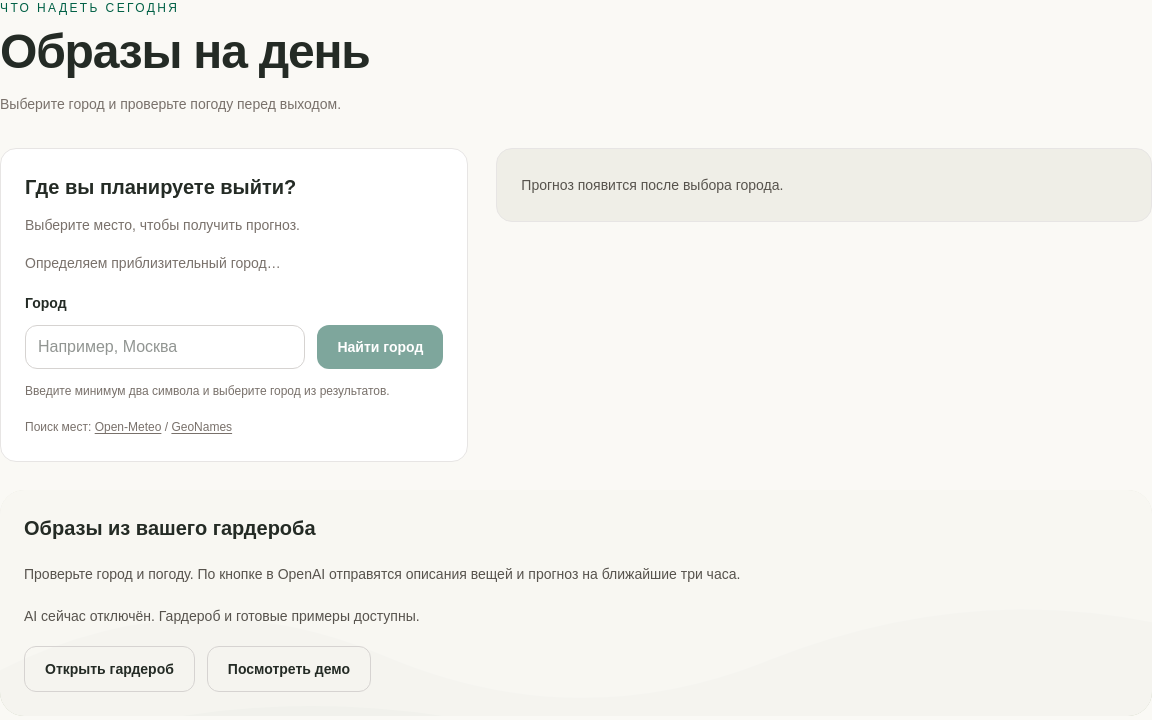
Test: personal place and weather › ignores late IP results after manual search has started
Type "Москва" into the field labelled "Город" at (165,347), box x1=25 y1=325 x2=306 y2=369
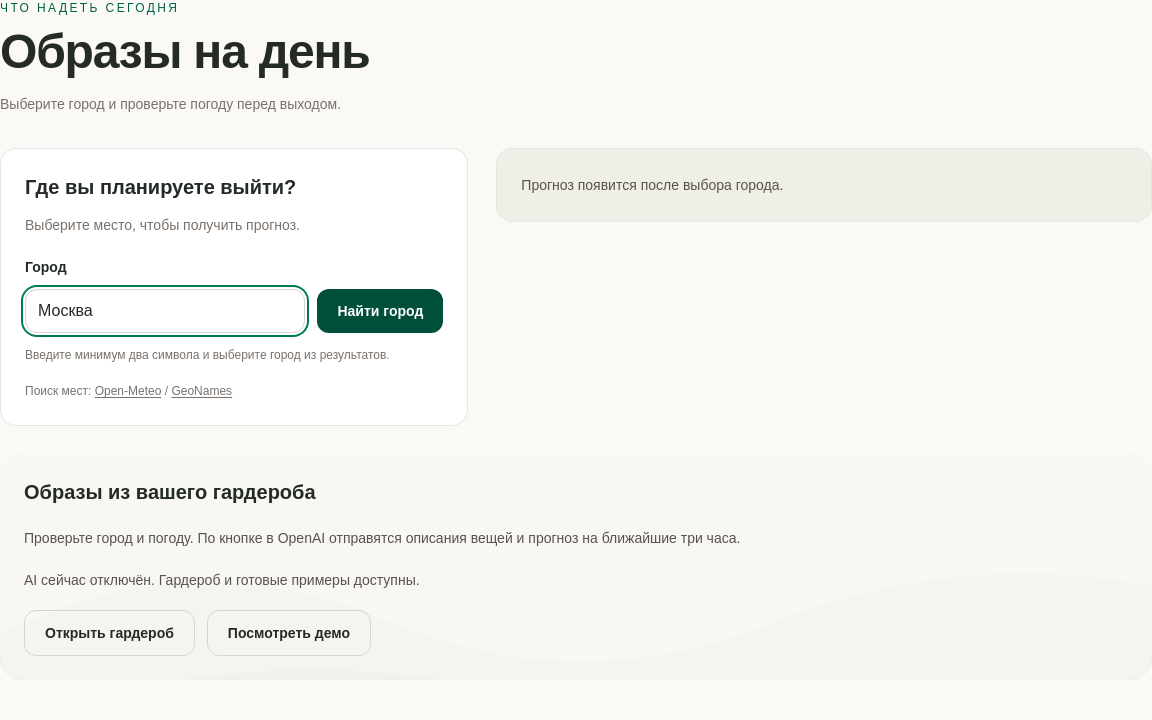
Click the button "Найти город" at (380,311), box x1=318 y1=289 x2=443 y2=333
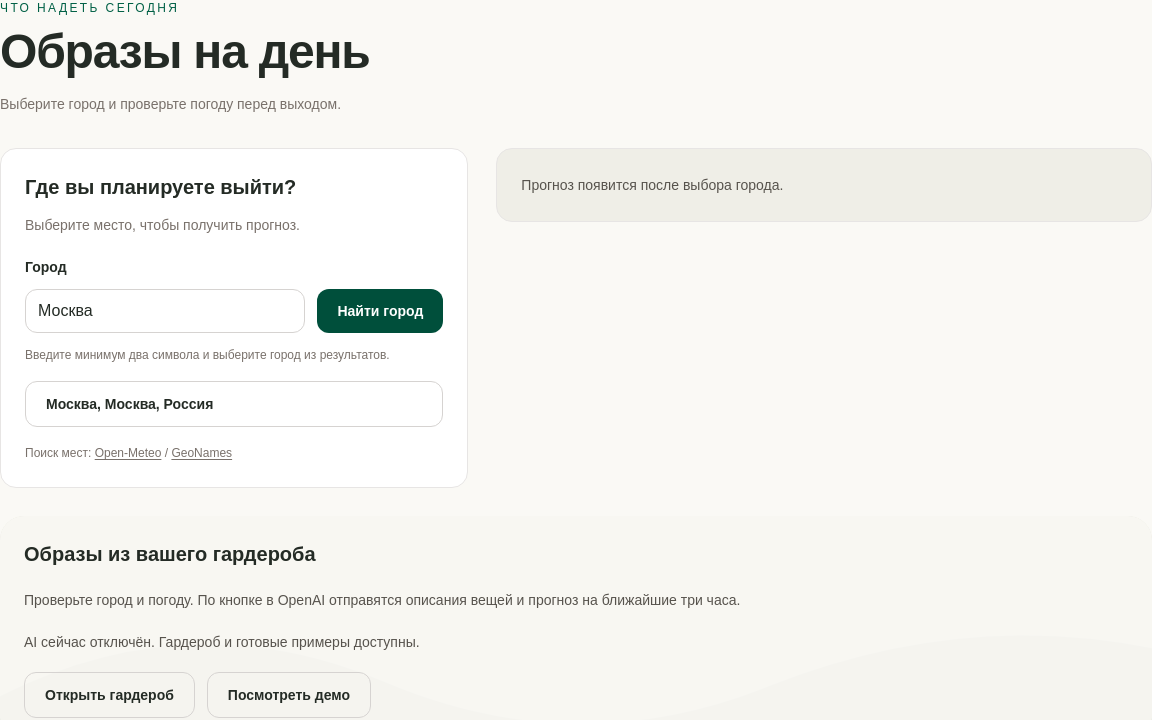
Expected: the button with aria-label "Выбрать Москва, Москва, Россия" is shown, x1=25 y1=381 x2=443 y2=427
